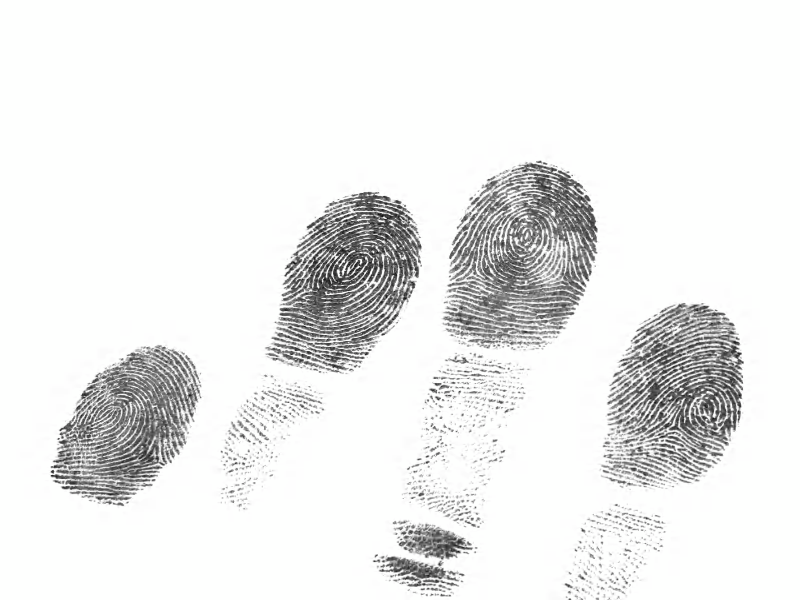distal: (431, 157, 610, 362), (591, 292, 753, 493), (264, 187, 427, 381), (41, 331, 202, 520)
proximal: (388, 350, 549, 544), (210, 376, 346, 533), (554, 486, 683, 600)
